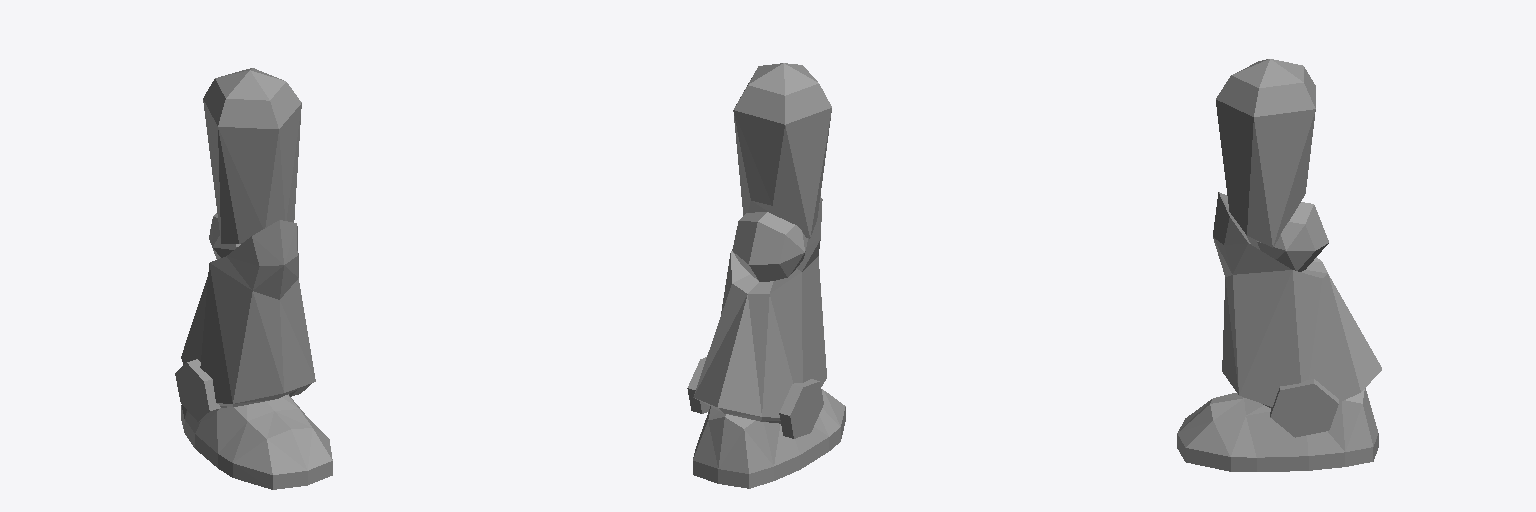
Rendered from piernaderecha.obj.
The picture shows the model from 3 angles: view 1: azimuth 30°, elevation 25°; view 2: azimuth 150°, elevation 25°; view 3: azimuth 270°, elevation 25°; orthographic projection.
Parts seen in each view (by area): view 1: buzzlightyLeftFoot_buzzlighty.004; view 2: buzzlightyLeftFoot_buzzlighty.004; view 3: buzzlightyLeftFoot_buzzlighty.004.
Part boxes in pixels (left/top/right/bottom): buzzlightyLeftFoot_buzzlighty.004: left=175, top=68, right=332, bottom=489; buzzlightyLeftFoot_buzzlighty.004: left=687, top=63, right=845, bottom=488; buzzlightyLeftFoot_buzzlighty.004: left=1177, top=59, right=1381, bottom=471.
Size of the model in its own units: 0.1133 by 0.3976 by 0.1929.